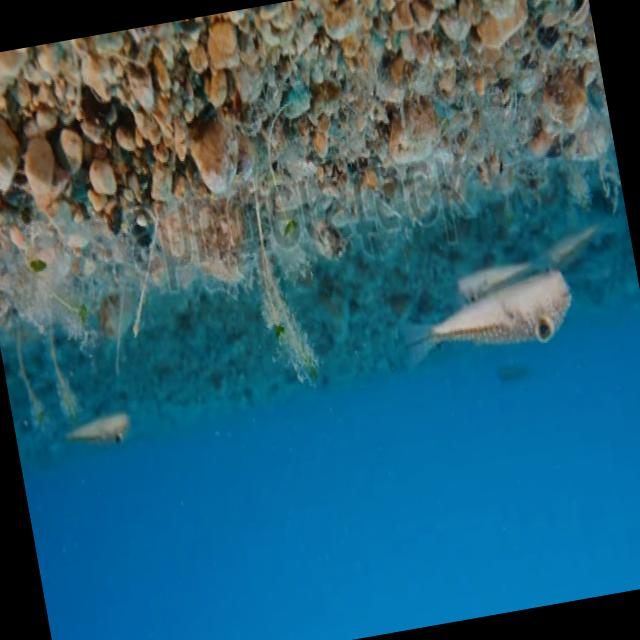Balon Baligi: (396, 257, 582, 377), (51, 405, 136, 461)
